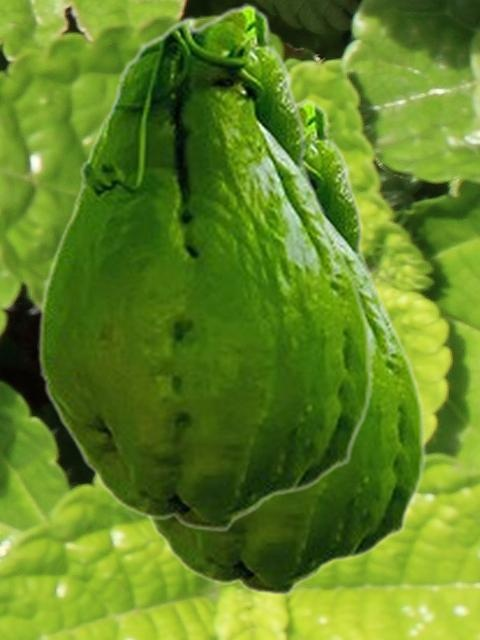sayote: (37, 3, 373, 532), (143, 99, 426, 596)
